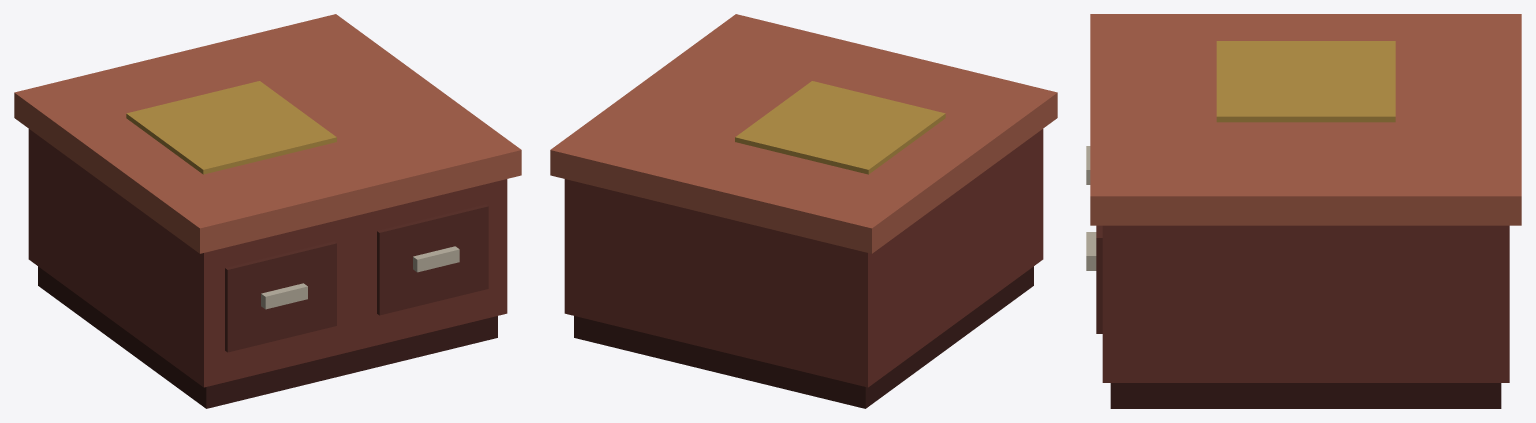
Rendered from k_ember_hatch.glb.
The picture shows the model from 3 angles, left to right: view 1: azimuth 30°, elevation 25°; view 2: azimuth 150°, elevation 25°; view 3: azimuth 270°, elevation 25°; orthographic projection. The views are drawn at different scales.
Visible parts, largest first — view 1: piece; view 2: piece; view 3: piece.
Part boxes in pixels (bbox=[...]): piece: bbox=[14, 14, 521, 408]; piece: bbox=[550, 14, 1057, 408]; piece: bbox=[1086, 14, 1521, 408].
Bounding box in the file's own units: 1.06 × 0.615 × 1.07.
